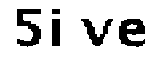5: (10, 4, 44, 50)
e: (116, 17, 156, 52)
i: (46, 6, 68, 50)
v: (76, 13, 115, 52)
